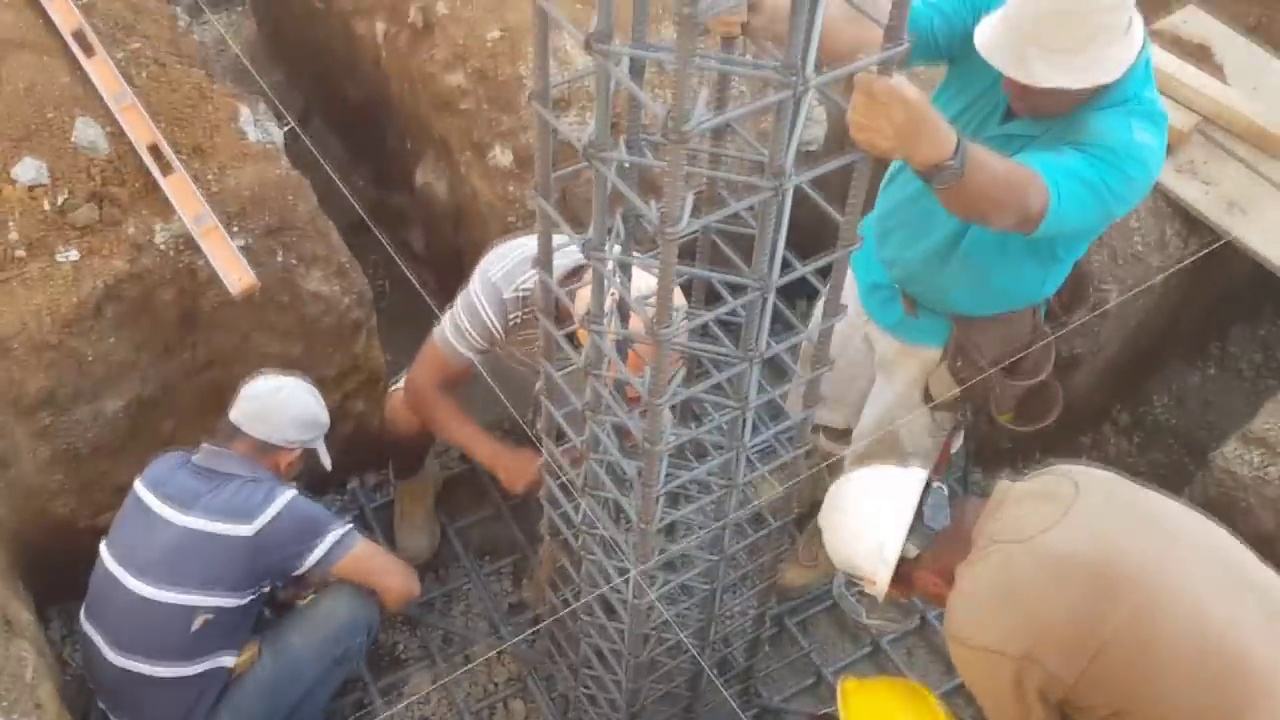helmet: (573, 247, 688, 400), (817, 458, 940, 596), (835, 663, 955, 720)
helmet-off: (975, 3, 1150, 125), (202, 364, 337, 492)
helmet-on: (822, 448, 1010, 598), (555, 245, 688, 402)
person: (772, 5, 1167, 588), (820, 438, 1280, 720), (73, 364, 422, 716), (384, 234, 688, 562)
